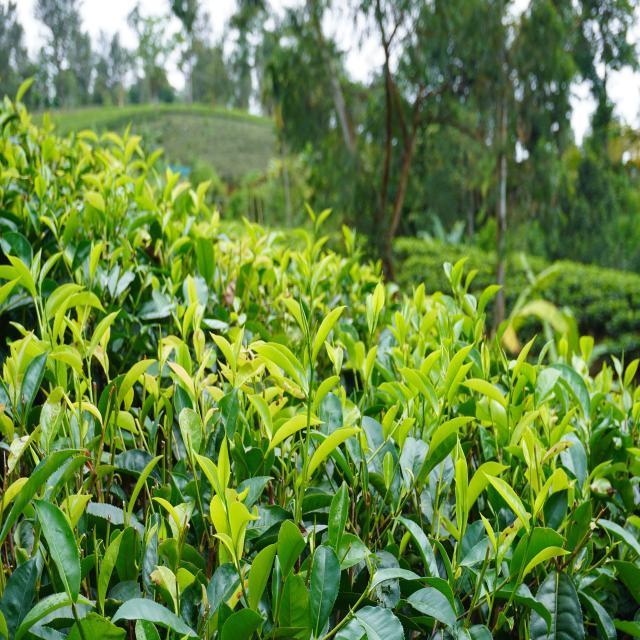Stem: (309, 368, 313, 385), (462, 513, 465, 527), (224, 499, 228, 508)
